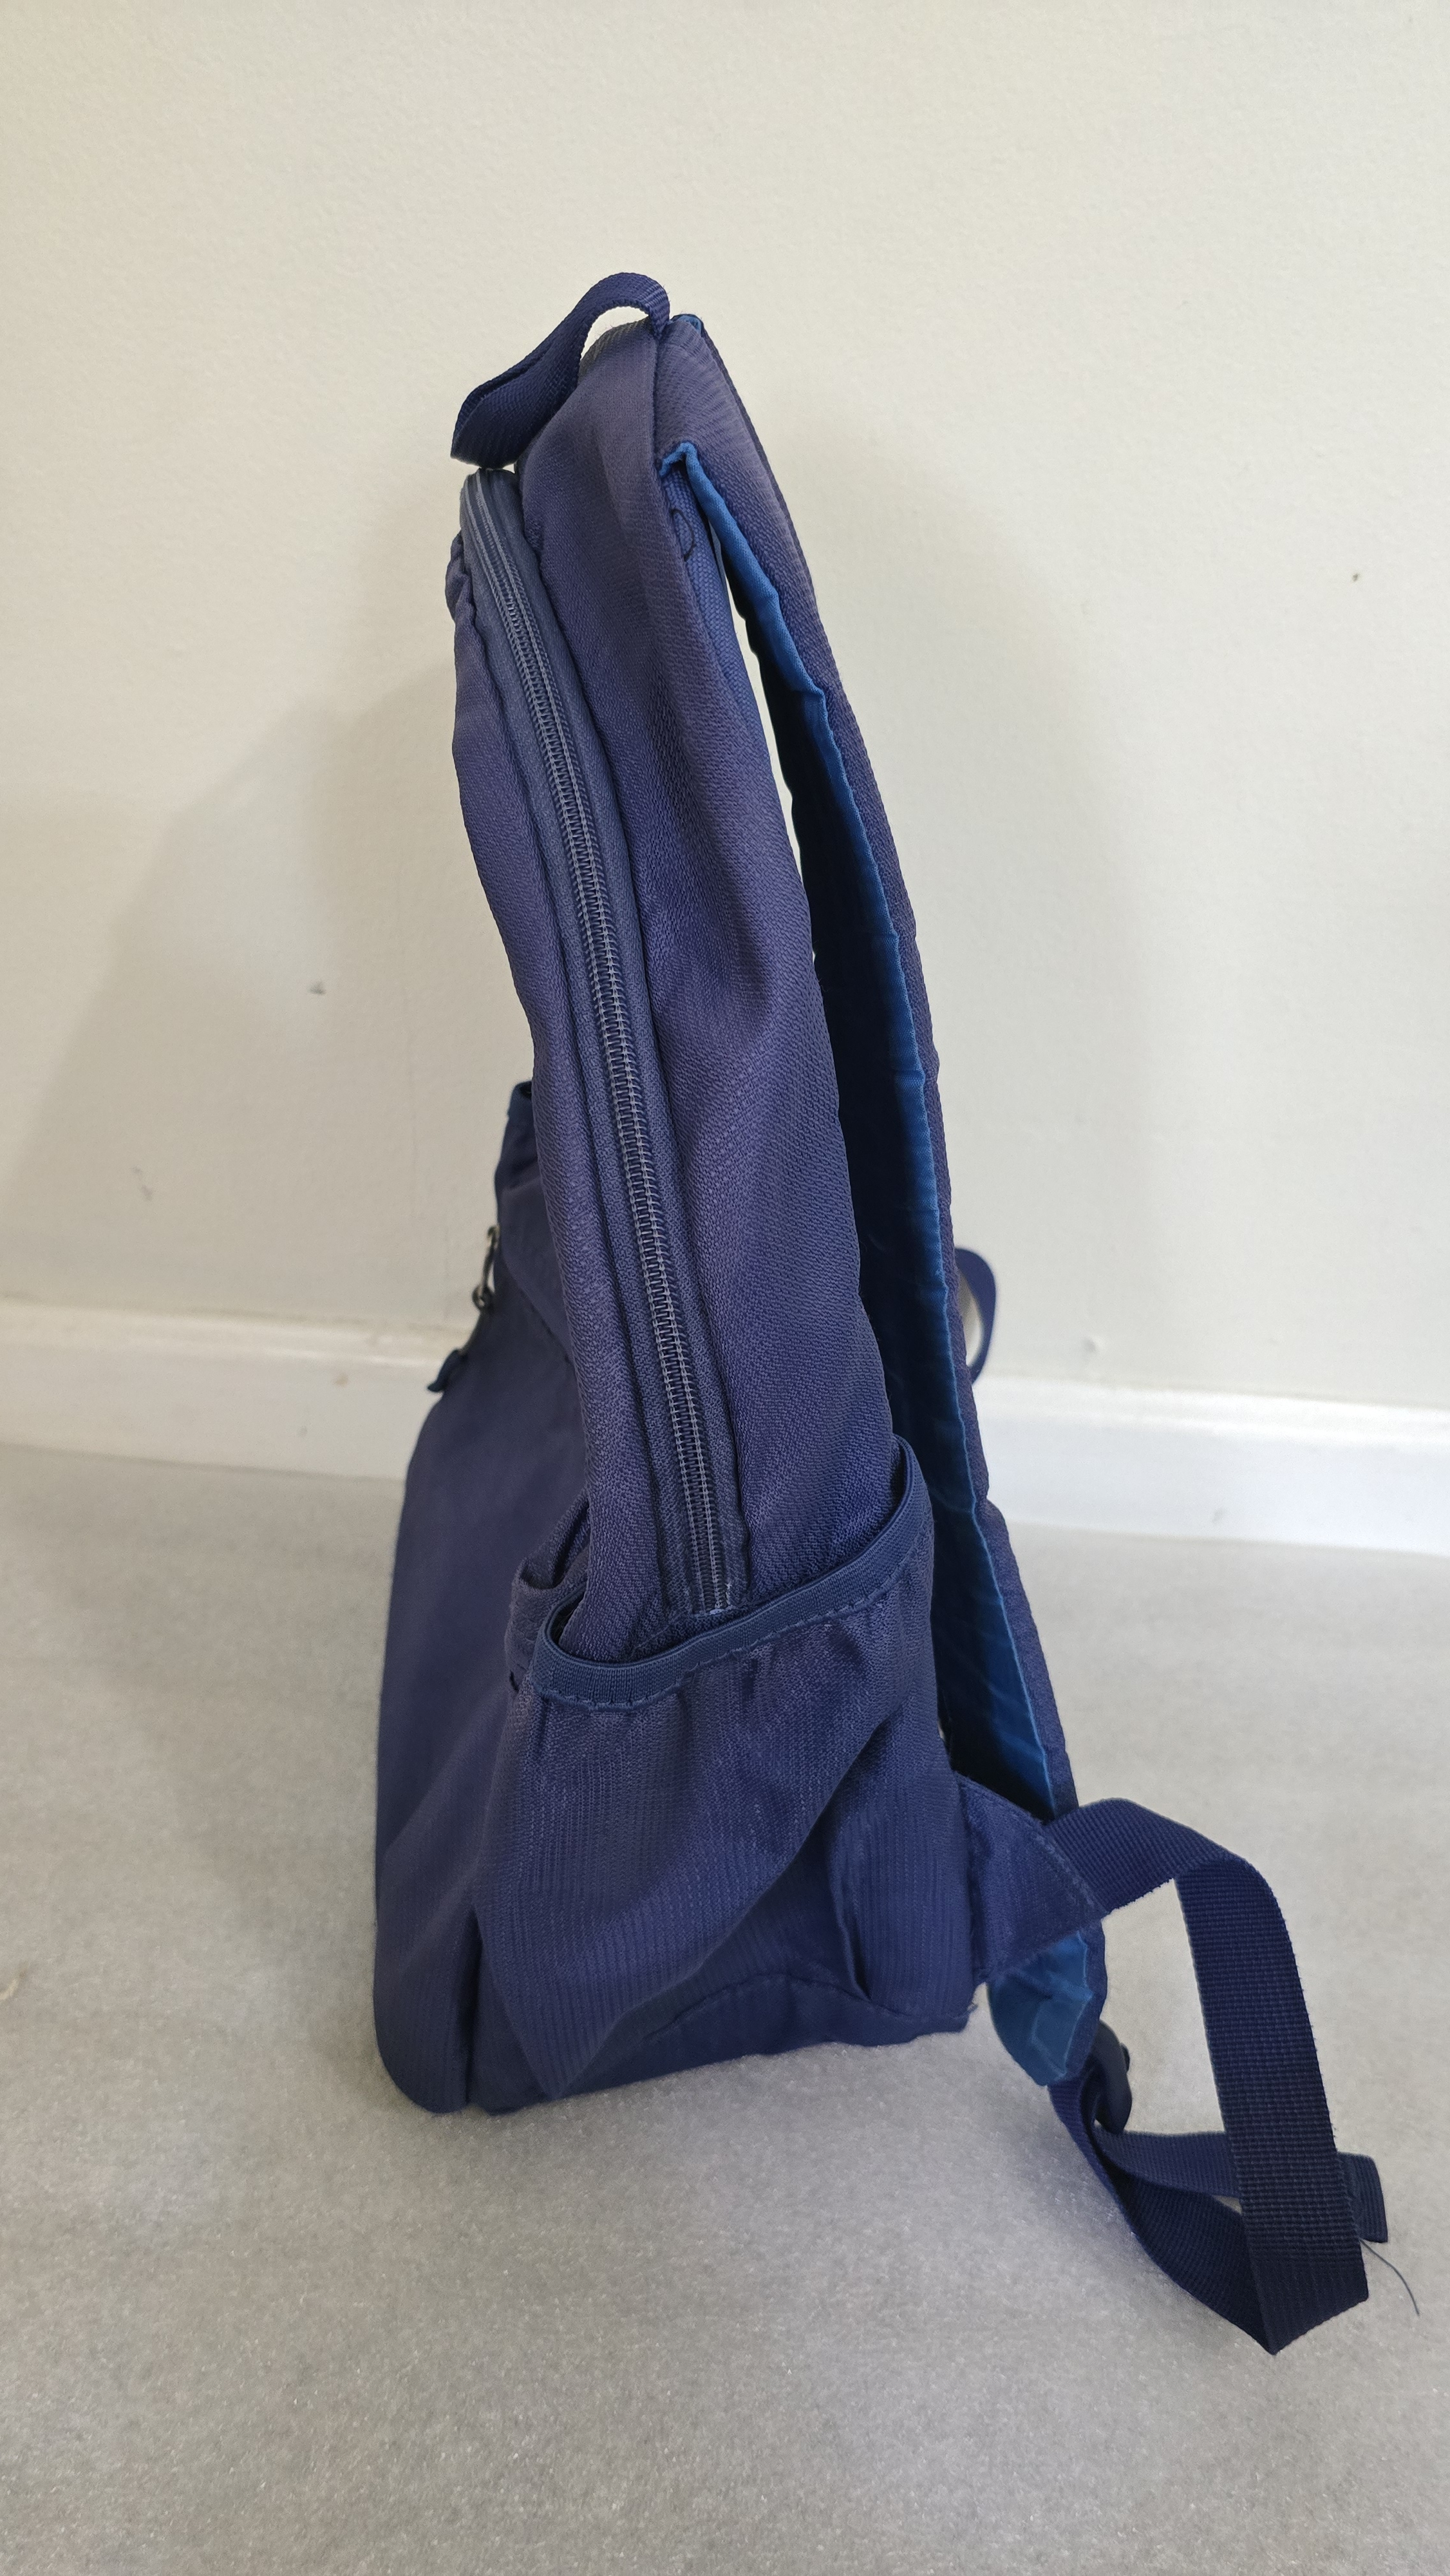bag: (361, 177, 1179, 2141)
